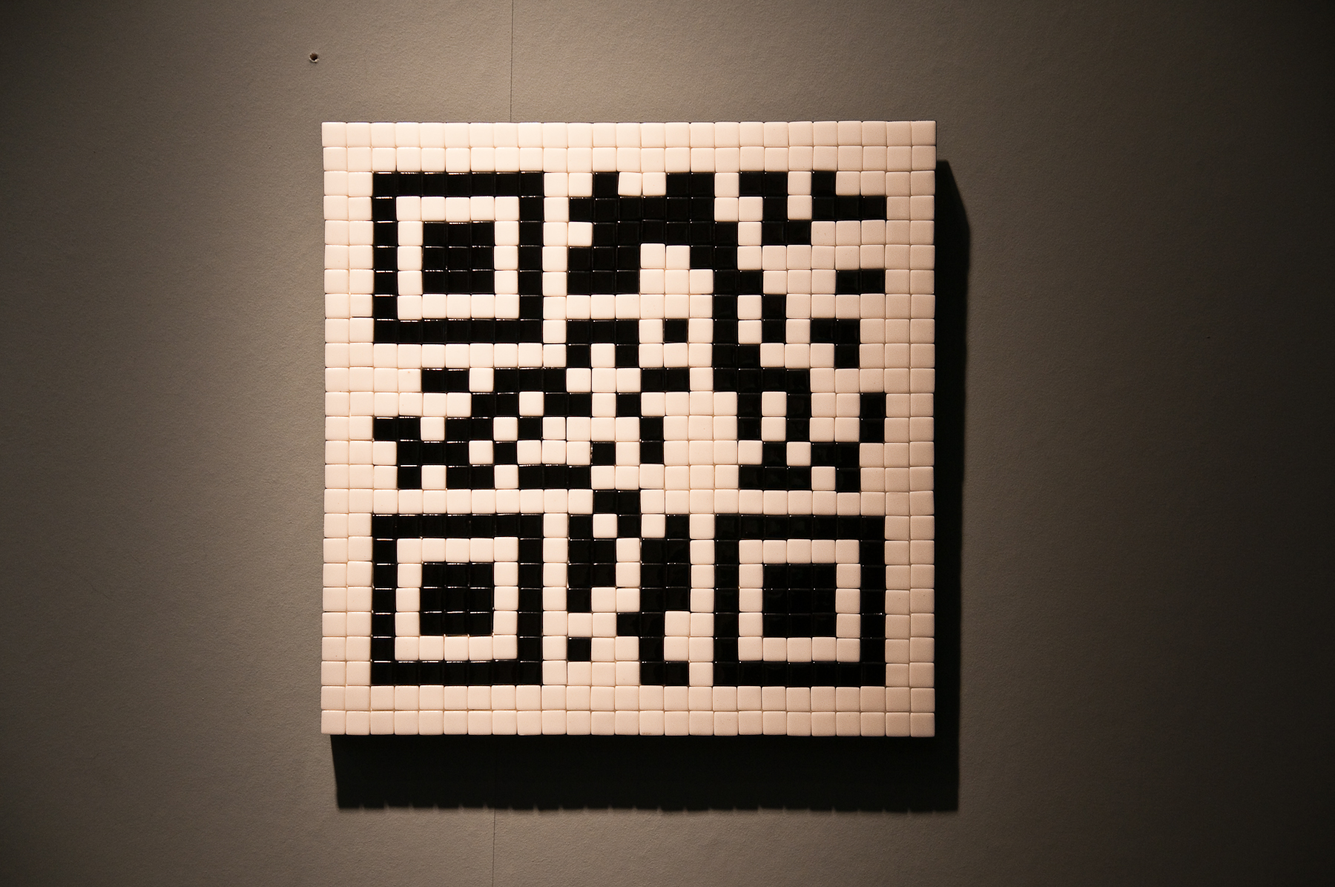QR-CODE: (371, 171, 886, 685)
